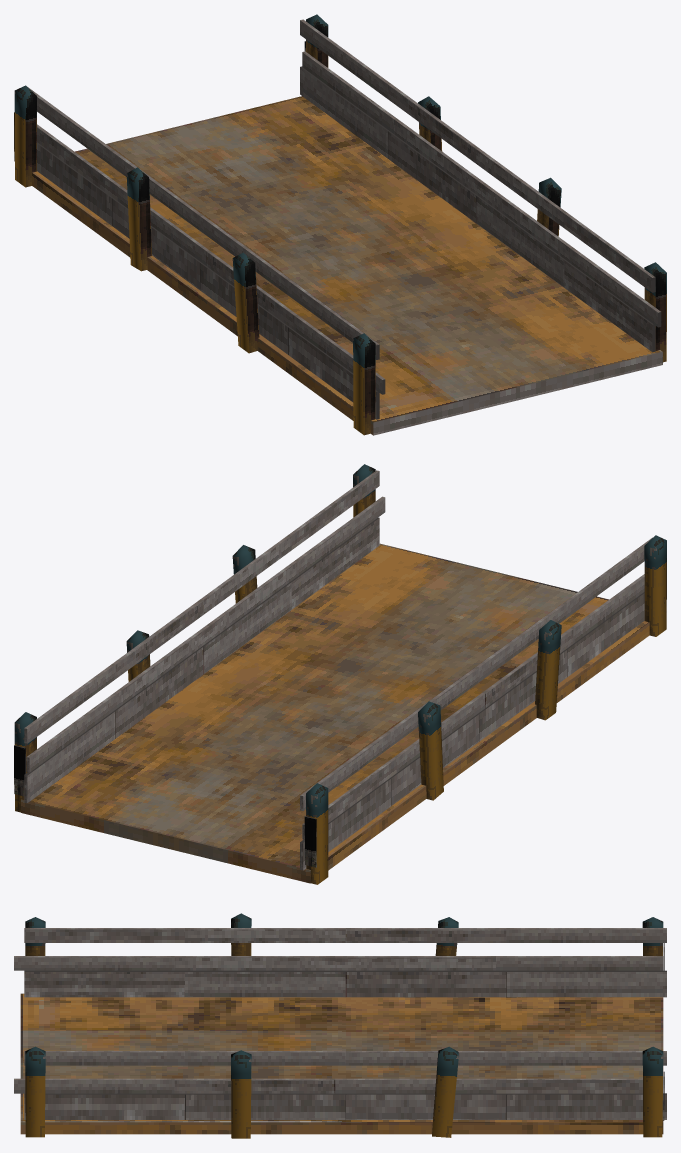
Rendered from 0_b4_footbridge.glb.
3 views of the same model, one above another, from view 1: azimuth 30°, elevation 25°; view 2: azimuth 150°, elevation 25°; view 3: azimuth 270°, elevation 25° (orthographic). The views are drawn at different scales.
Visible parts, largest first — view 1: 0_b4_footbridge; view 2: 0_b4_footbridge; view 3: 0_b4_footbridge.
Part boxes in pixels (<box>): 0_b4_footbridge: <box>14,14,666,435</box>; 0_b4_footbridge: <box>14,464,666,884</box>; 0_b4_footbridge: <box>14,913,666,1138</box>.
Size of the model in its own units: 5.83 by 1.7 by 11.37.
Materials: 1 (1 with a texture image).
